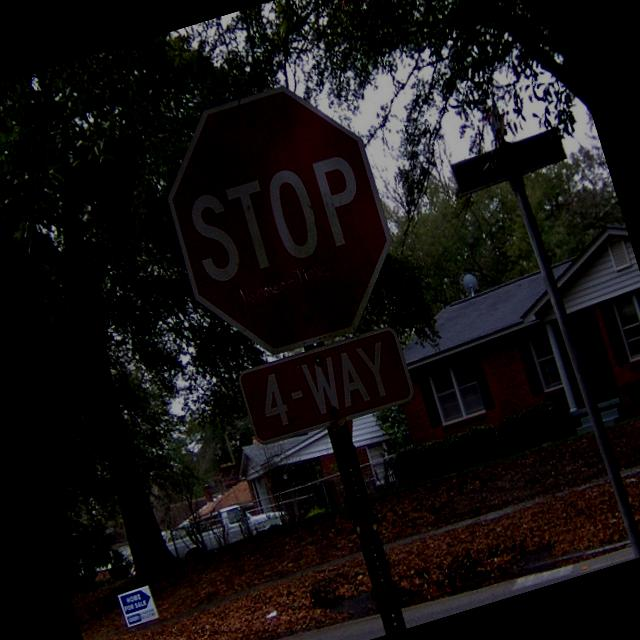Vehicle: (158, 488, 290, 564)
